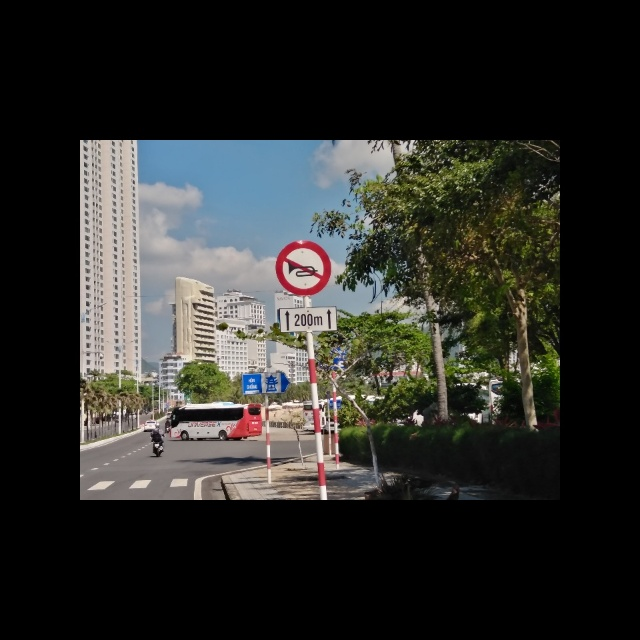Cấm bấm còi: (276, 241, 333, 297)
